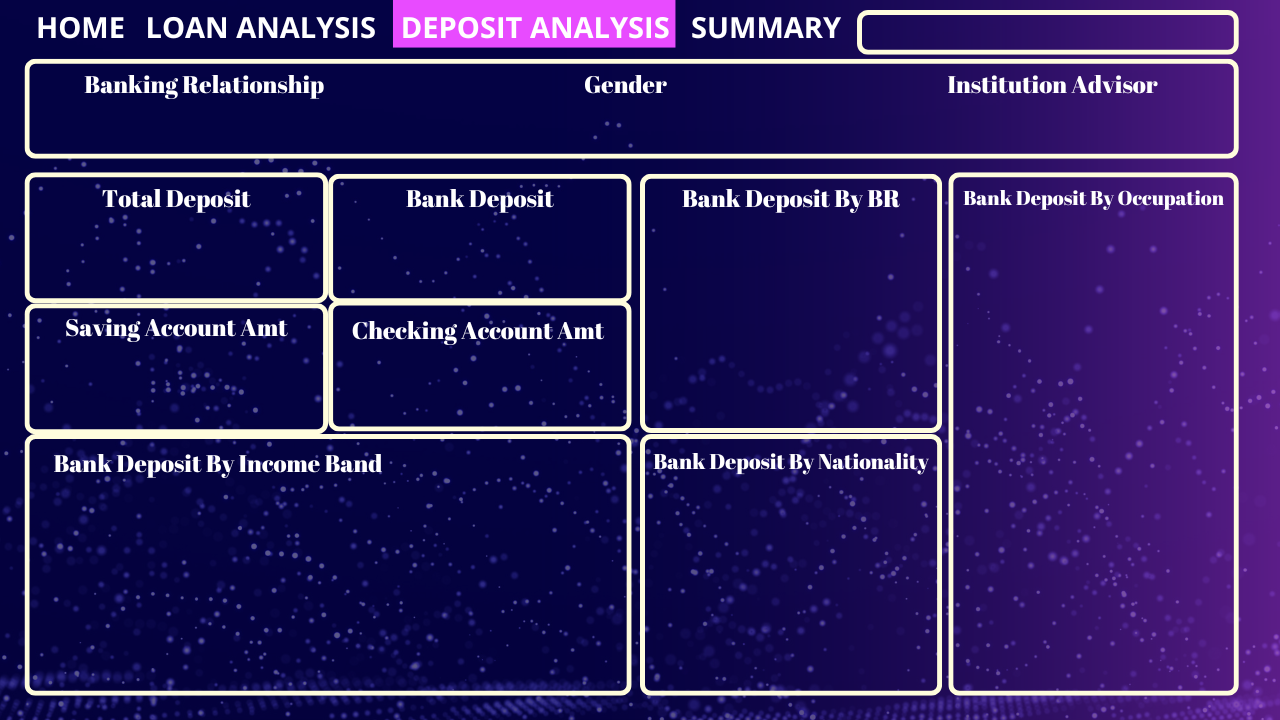

This screenshot's page, from the dashboard's own definition file:
{"tool":"powerbi","page":{"name":"Deposit Analysis","canvas":[1280,720],"ordinal":2},"visuals":[{"type":"slicer","fields":{"Values":["Banking.joined year"]},"box":[858.4,11.8,381.3,33.6],"z":0},{"type":"slicer","fields":{"Values":["Banking.BRId"]},"box":[16.8,102.5,430,33.6],"z":1000},{"type":"slicer","fields":{"Values":["Banking.GenderId"]},"box":[446.8,102.5,361.2,33.6],"z":2000},{"type":"slicer","fields":{"Values":["Banking.IAId"]},"box":[858.4,102.5,361.2,45.4],"z":3000},{"type":"card","fields":{"Values":["own measure.total deposit"]},"box":[63.8,186.5,226.8,120.9],"z":4000},{"type":"card","fields":{"Values":["Sum(Banking.Bank Deposits)"]},"box":[364.5,186.5,226.8,120.9],"z":5000},{"type":"card","fields":{"Values":["Sum(Banking.Saving Accounts)"]},"box":[63.8,320.8,226.8,120.9],"z":6000},{"type":"card","fields":{"Values":["Sum(Banking.Checking Accounts)"]},"box":[364.5,320.8,226.8,120.9],"z":7000},{"type":"donutChart","fields":{"Category":["Banking.Income Band"],"Y":["Sum(Banking.Bank Deposits)"]},"box":[63.8,470.3,527.5,216.7],"z":8000},{"type":"clusteredColumnChart","fields":{"Category":["Banking.BRId"],"Y":["Sum(Banking.Bank Deposits)"]},"box":[640,216.7,292.3,225.1],"z":9000},{"type":"clusteredColumnChart","fields":{"Category":["Banking.Occupation"],"Y":["Sum(Banking.Bank Deposits)"]},"box":[947.4,216.7,292.3,492.2],"z":10000},{"type":"clusteredColumnChart","fields":{"Category":["Banking.Nationality"],"Y":["Sum(Banking.Bank Deposits)"]},"box":[640,483.8,292.3,225.1],"z":11000},{"type":"actionButton","box":[28.6,8.4,102.5,40.3],"z":12000},{"type":"actionButton","box":[146.1,11.8,240.2,37],"z":13000},{"type":"actionButton","box":[683.9,10.1,163.4,37.6],"z":14000}]}

Visuals, with their boxes in screenshot pixels (x1, y1, x2, y2), scaled from the page's 1280x720 canvas onto the 1280x720 screenshot:
slicer - Banking.joined year: [left=858, top=12, right=1240, bottom=45]
slicer - Banking.BRId: [left=17, top=102, right=447, bottom=136]
slicer - Banking.GenderId: [left=447, top=102, right=808, bottom=136]
slicer - Banking.IAId: [left=858, top=102, right=1220, bottom=148]
card - own measure.total deposit: [left=64, top=186, right=291, bottom=307]
card - Sum(Banking.Bank Deposits): [left=364, top=186, right=591, bottom=307]
card - Sum(Banking.Saving Accounts): [left=64, top=321, right=291, bottom=442]
card - Sum(Banking.Checking Accounts): [left=364, top=321, right=591, bottom=442]
donutChart - Banking.Income Band x Sum(Banking.Bank Deposits): [left=64, top=470, right=591, bottom=687]
clusteredColumnChart - Banking.BRId x Sum(Banking.Bank Deposits): [left=640, top=217, right=932, bottom=442]
clusteredColumnChart - Banking.Occupation x Sum(Banking.Bank Deposits): [left=947, top=217, right=1240, bottom=709]
clusteredColumnChart - Banking.Nationality x Sum(Banking.Bank Deposits): [left=640, top=484, right=932, bottom=709]
actionButton: [left=29, top=8, right=131, bottom=49]
actionButton: [left=146, top=12, right=386, bottom=49]
actionButton: [left=684, top=10, right=847, bottom=48]
